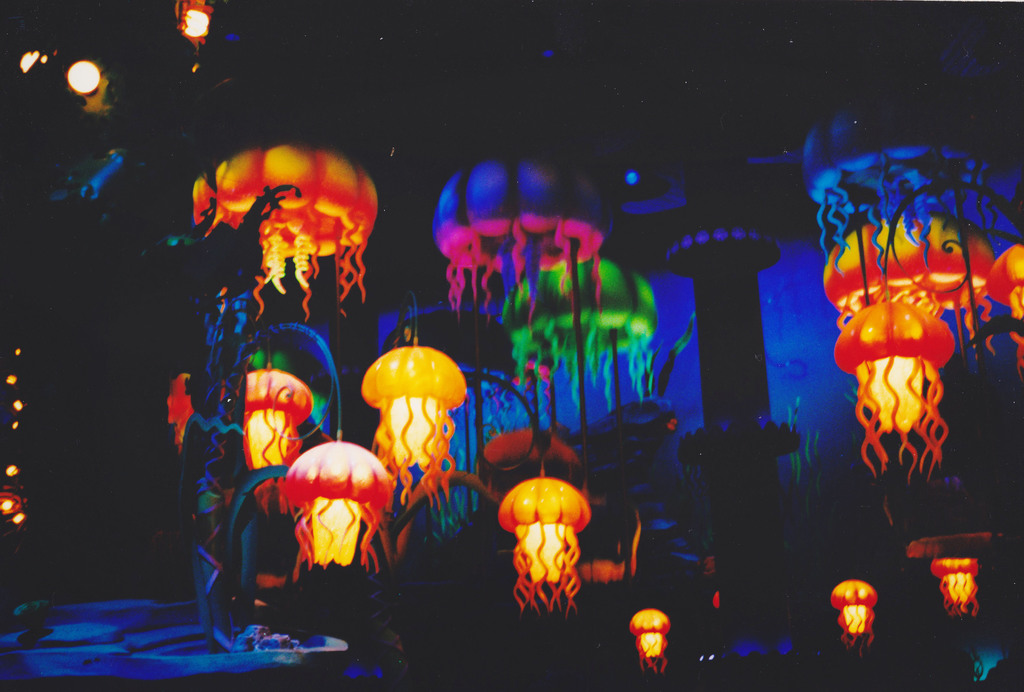Jellyfish: (158, 83, 1023, 675), (351, 346, 467, 528)
